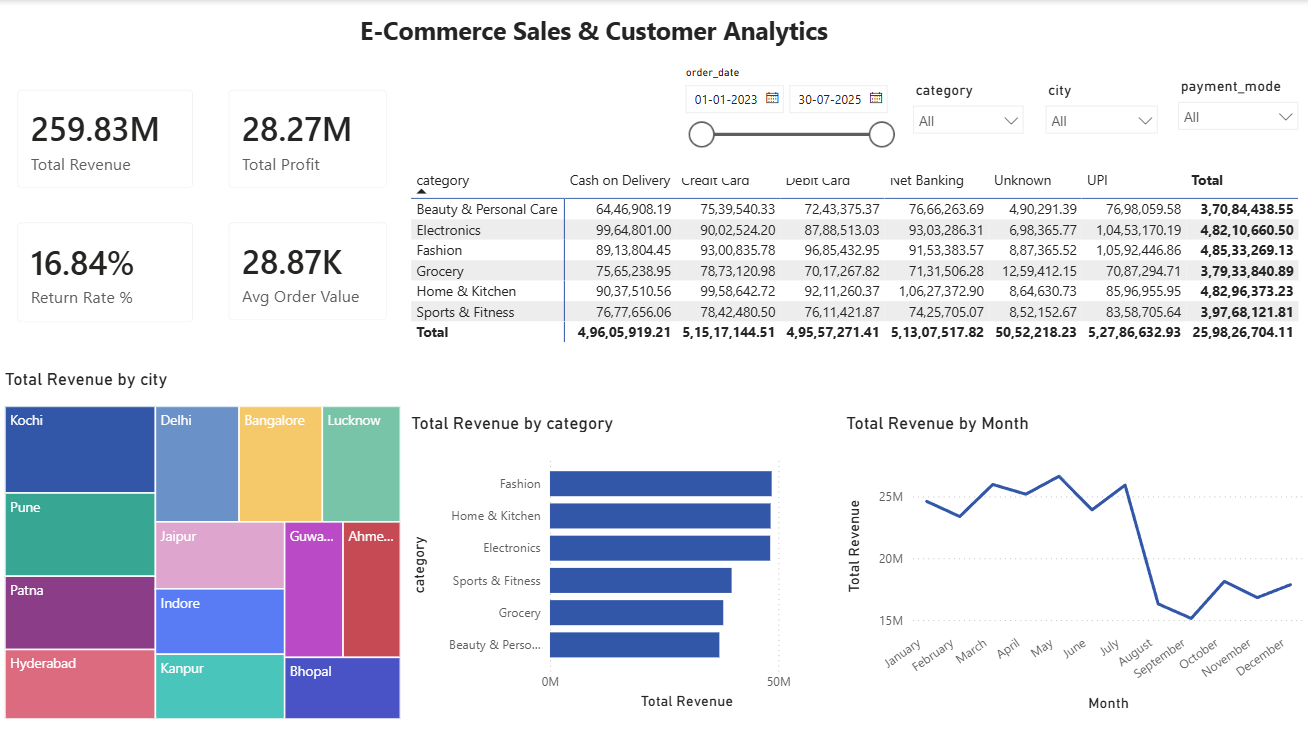

Layout of this report page (visuals, bound fields, positions):
{"tool":"powerbi","page":{"name":"Page 1","canvas":[1280,720],"ordinal":0},"visuals":[{"type":"cardVisual","fields":{"Data":["analytics_project orders.Total Revenue"]},"box":[0,71,206.9,131],"z":0},{"type":"cardVisual","fields":{"Data":["analytics_project orders.Total Profit"]},"box":[207.3,70.8,189.6,130.2],"z":1},{"type":"cardVisual","fields":{"Data":["analytics_project orders.Return Rate %"]},"box":[0,200.8,206.9,132.2],"z":2},{"type":"cardVisual","fields":{"Data":["analytics_project orders.Average Order Value"]},"box":[207.3,200.9,189.6,130.2],"z":3},{"type":"textbox","box":[347.3,8.6,475.2,51.8],"z":4},{"type":"lineChart","fields":{"Category":["analytics_project orders.order_date.Variation.Date Hierarchy.Month"],"Y":["analytics_project orders.Total Revenue"]},"box":[822.7,403,457.6,297],"z":5},{"type":"clusteredBarChart","fields":{"Category":["analytics_project products.category"],"Y":["analytics_project orders.Total Revenue"]},"box":[396.8,403.2,425.9,295.7],"z":6},{"type":"treemap","fields":{"Group":["analytics_project customers.city"],"Values":["analytics_project orders.Total Revenue"]},"box":[0,360.2,396.8,347.6],"z":7},{"type":"pivotTable","fields":{"Columns":["analytics_project orders.payment_mode"],"Rows":["analytics_project products.category"],"Values":["analytics_project orders.Total Revenue"]},"box":[396.8,160.5,883.4,236.3],"z":8},{"type":"slicer","fields":{"Values":["analytics_project orders.order_date"]},"box":[657.6,59.1,225.8,115.2],"z":9},{"type":"slicer","fields":{"Values":["analytics_project products.category"]},"box":[883.3,74.2,128.8,89.4],"z":10},{"type":"slicer","fields":{"Values":["analytics_project orders.city"]},"box":[1012.1,74.2,130.3,89.4],"z":11},{"type":"slicer","fields":{"Values":["analytics_project orders.payment_mode"]},"box":[1142.4,71.2,137.9,89.4],"z":12}]}

Visuals, with their boxes in screenshot pixels (x1, y1, x2, y2), scaled from the page's 1280x720 canvas onto the 1308x735 screenshot:
cardVisual - analytics_project orders.Total Revenue: bbox=(0, 72, 211, 206)
cardVisual - analytics_project orders.Total Profit: bbox=(212, 72, 406, 205)
cardVisual - analytics_project orders.Return Rate %: bbox=(0, 205, 211, 340)
cardVisual - analytics_project orders.Average Order Value: bbox=(212, 205, 406, 338)
textbox: bbox=(355, 9, 840, 62)
lineChart - analytics_project orders.order_date.Variation.Date Hierarchy.Month x analytics_project orders.Total Revenue: bbox=(841, 411, 1307, 715)
clusteredBarChart - analytics_project products.category x analytics_project orders.Total Revenue: bbox=(405, 412, 841, 713)
treemap - analytics_project customers.city x analytics_project orders.Total Revenue: bbox=(0, 368, 405, 723)
pivotTable - analytics_project orders.payment_mode x analytics_project products.category: bbox=(405, 164, 1307, 405)
slicer - analytics_project orders.order_date: bbox=(672, 60, 903, 178)
slicer - analytics_project products.category: bbox=(903, 76, 1034, 167)
slicer - analytics_project orders.city: bbox=(1034, 76, 1167, 167)
slicer - analytics_project orders.payment_mode: bbox=(1167, 73, 1307, 164)
